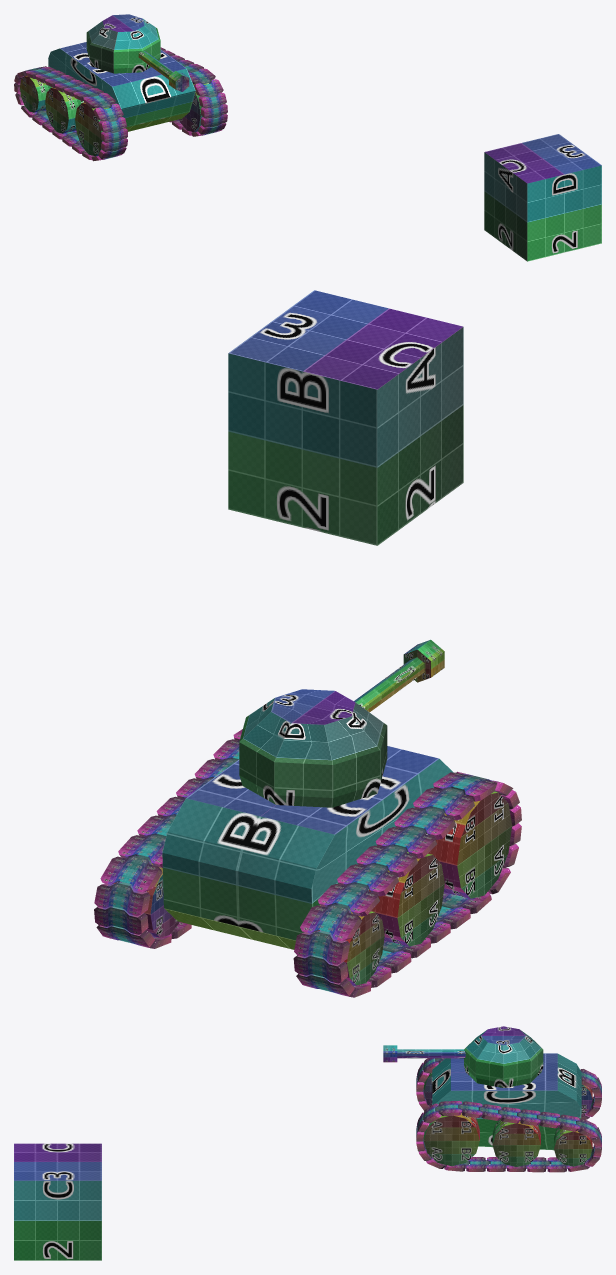
File: tank4.gltf
3 renders of one model, top to bottom at view 1: azimuth 30°, elevation 25°; view 2: azimuth 150°, elevation 25°; view 3: azimuth 270°, elevation 25°, orthographic. The views are drawn at different scales.
Visible parts, largest first — view 1: Cube, gosenica, telo, glava, kolo01, kolo02, kolo03, top; view 2: Cube, telo, gosenica, glava, kolo01, kolo02, kolo03, top, top_glava; view 3: Cube, telo, gosenica, glava, kolo01, kolo02, kolo03, top.
Boxes of the visible parts, box(x1,y1,x2,y2) form: Cube: box(484, 134, 601, 261); gosenica: box(14, 47, 227, 161); telo: box(48, 42, 195, 131); glava: box(86, 14, 160, 73); kolo01: box(75, 79, 212, 156); kolo02: box(45, 87, 84, 133); kolo03: box(20, 76, 51, 112); top: box(138, 50, 173, 79); Cube: box(228, 290, 463, 545); telo: box(162, 746, 453, 949); gosenica: box(94, 729, 521, 997); glava: box(239, 689, 387, 807); kolo01: box(425, 791, 511, 898); kolo02: box(368, 852, 444, 946); kolo03: box(114, 860, 384, 985); top: box(354, 657, 424, 712); top_glava: box(403, 639, 444, 682); Cube: box(14, 1143, 101, 1260); telo: box(432, 1053, 581, 1150); gosenica: box(416, 1058, 601, 1172); glava: box(464, 1026, 543, 1087); kolo01: box(423, 1073, 479, 1166); kolo02: box(492, 1119, 540, 1166); kolo03: box(554, 1084, 592, 1166); top: box(397, 1049, 465, 1058).
Bounding box in the file's own units: 8.05 × 2.65 × 13.35.
4 materials, 4 textured.
